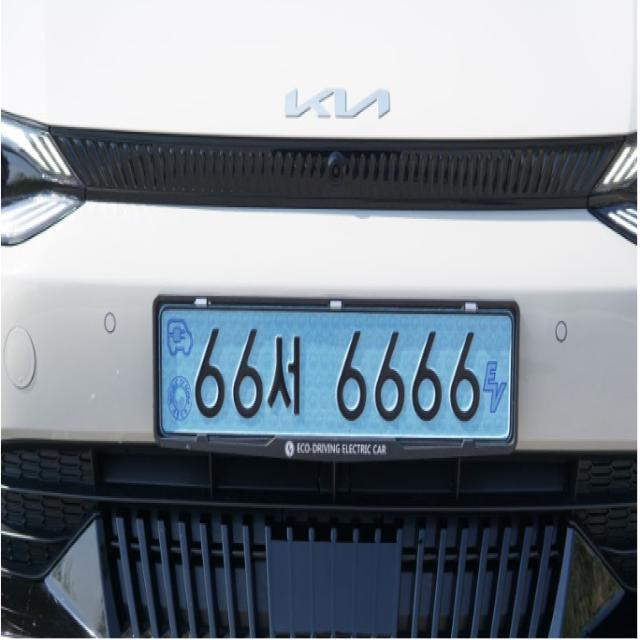car: (129, 263, 536, 505)
carev: (475, 306, 513, 443), (158, 307, 195, 434)
